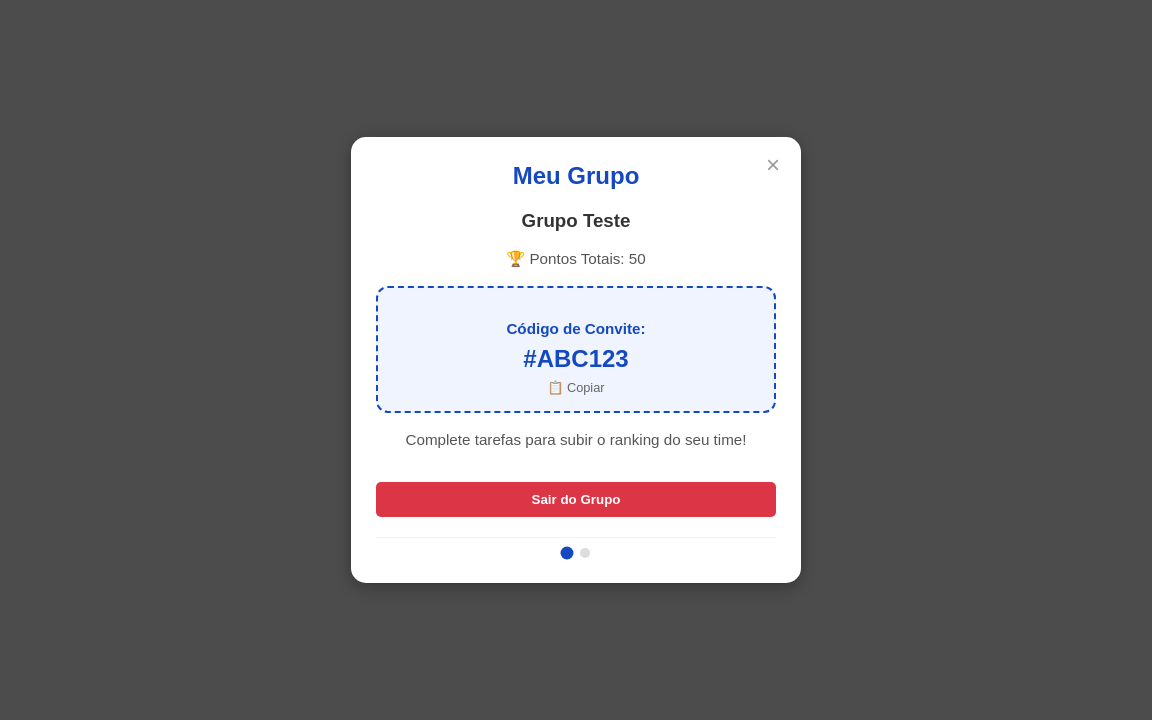
Test case: GrupoModal Component › renderiza informações do grupo quando usuário já tem grupo
Expected: the heading "Meu Grupo" is shown, [513,162,639,189]
Expected: the heading "Grupo Teste" is shown, [522,210,630,231]
Step 1. Click the 2nd element with class "dot" → (585, 553), box [580,548,590,558]
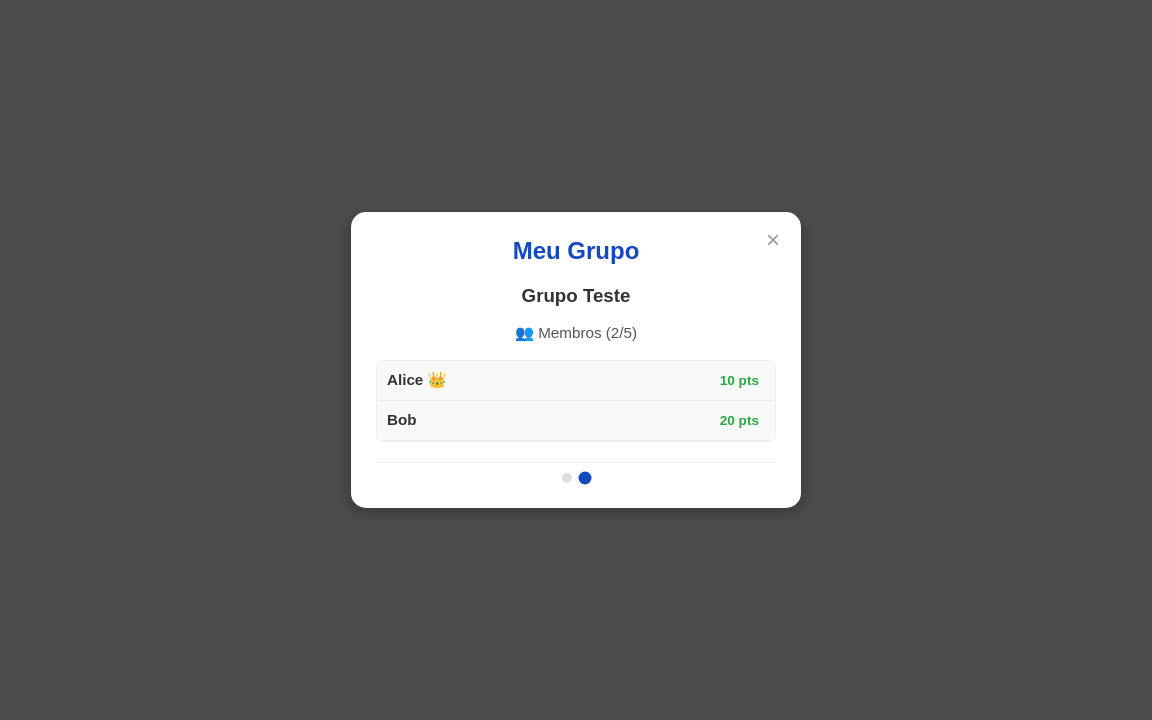
Expected: the text with class "membro-nome" shows "Alice", [387,371,447,390]
Expected: the text with class "membro-nome" shows "👑", [387,371,447,390]
